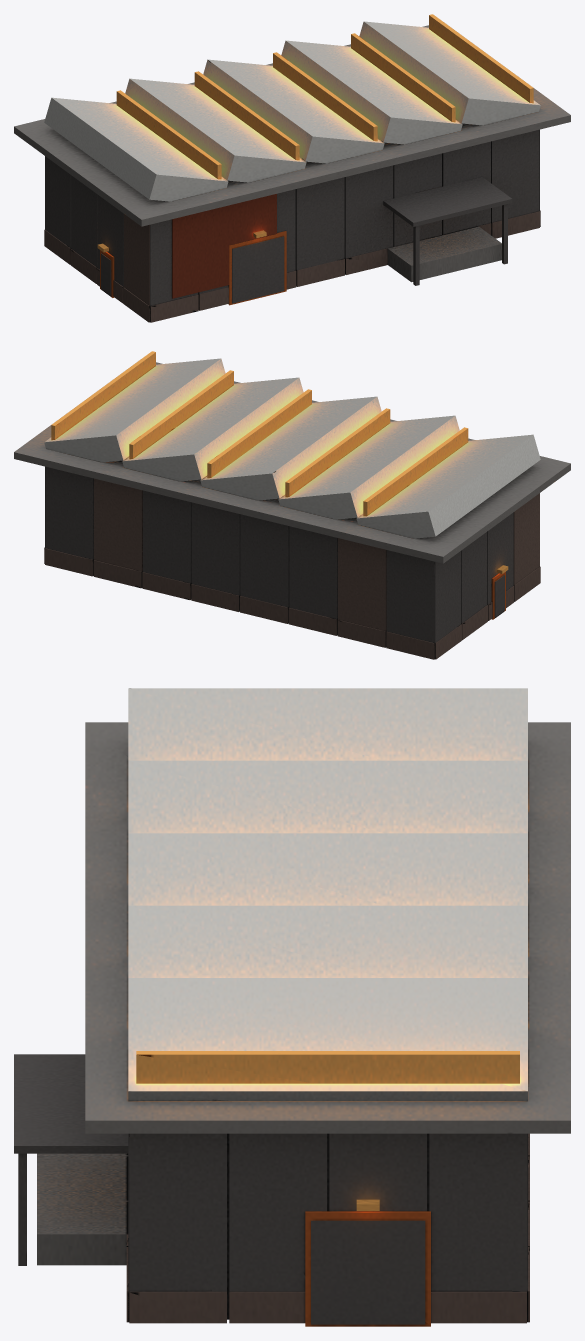
File: B_hall_a.glb
The picture shows the model from 3 angles, top to bottom: view 1: azimuth 30°, elevation 25°; view 2: azimuth 150°, elevation 25°; view 3: azimuth 270°, elevation 25°; orthographic projection. The views are drawn at different scales.
Parts seen in each view (by area): view 1: Cube; view 2: Cube; view 3: Cube.
Part boxes in pixels (x1,y1,x2,y2): Cube: [14, 14, 570, 322]; Cube: [14, 351, 570, 659]; Cube: [14, 688, 570, 1326].
Bounding box in the file's own units: 33 × 10.86 × 19.5.
1 material, 1 textured.
